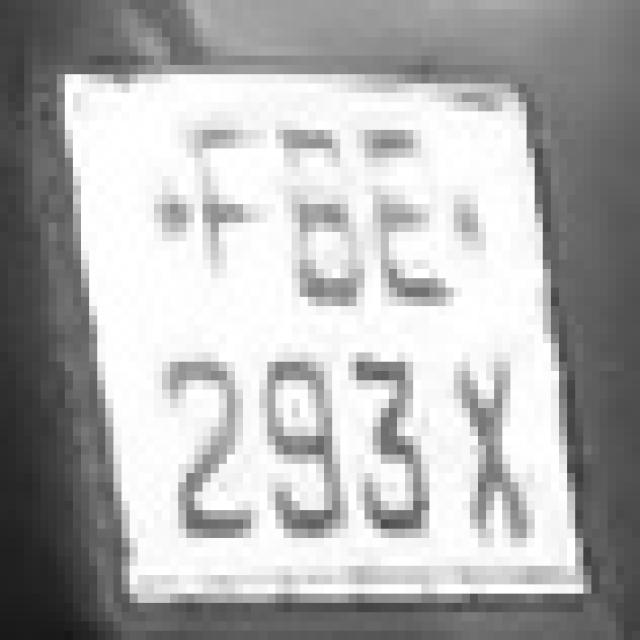2: (146, 334, 259, 594)
3: (332, 306, 446, 566)
9: (243, 334, 365, 575)
B: (276, 74, 364, 325)
E: (356, 83, 462, 324)
F: (162, 74, 284, 380)
X: (437, 306, 543, 575)
